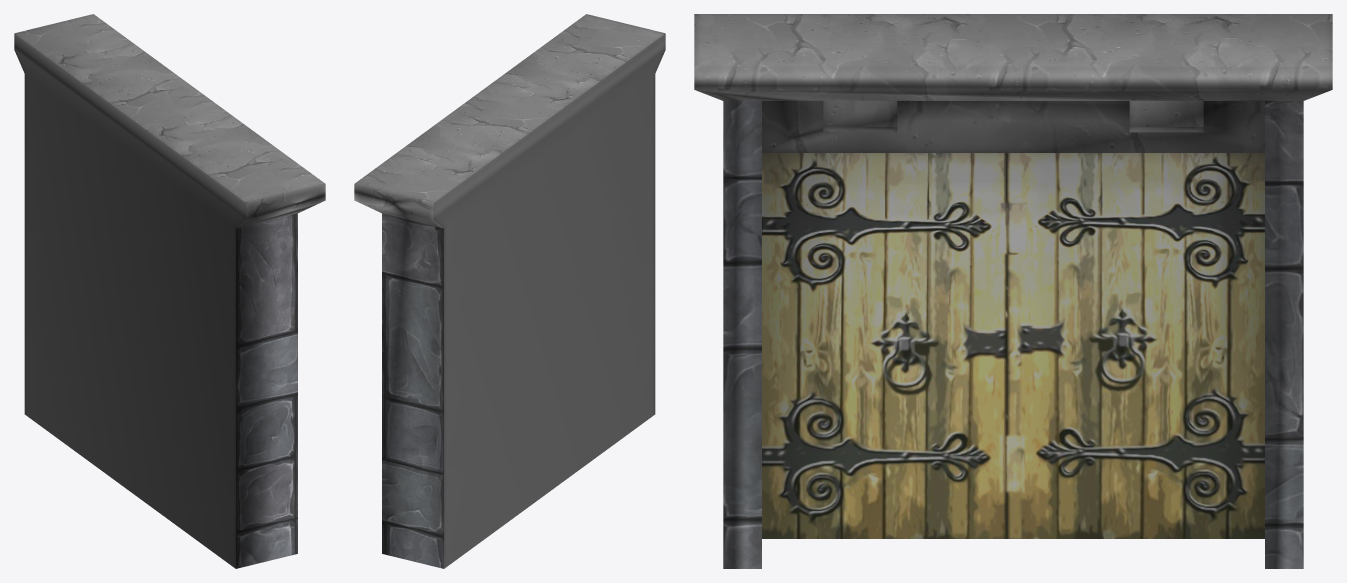
Rendered from Door.fbx.
3 views of the same model, side by side, from view 1: azimuth 30°, elevation 25°; view 2: azimuth 150°, elevation 25°; view 3: azimuth 270°, elevation 25° (orthographic). The views are drawn at different scales.
Visible parts, largest first — view 1: Cube_007; view 2: Cube_007; view 3: Cube_007.
Part boxes in pixels (x1,y1,x2,y2): Cube_007: [14, 14, 325, 568]; Cube_007: [354, 14, 665, 568]; Cube_007: [694, 14, 1332, 568].
Size of the model in its own units: 0.88 by 3.96 by 4.46.
